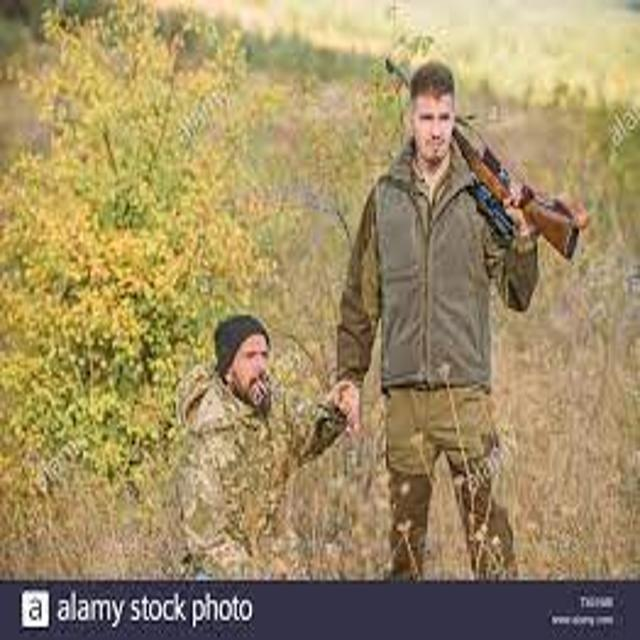gun: (370, 40, 591, 282)
poacher: (277, 41, 623, 574), (119, 281, 373, 577)
